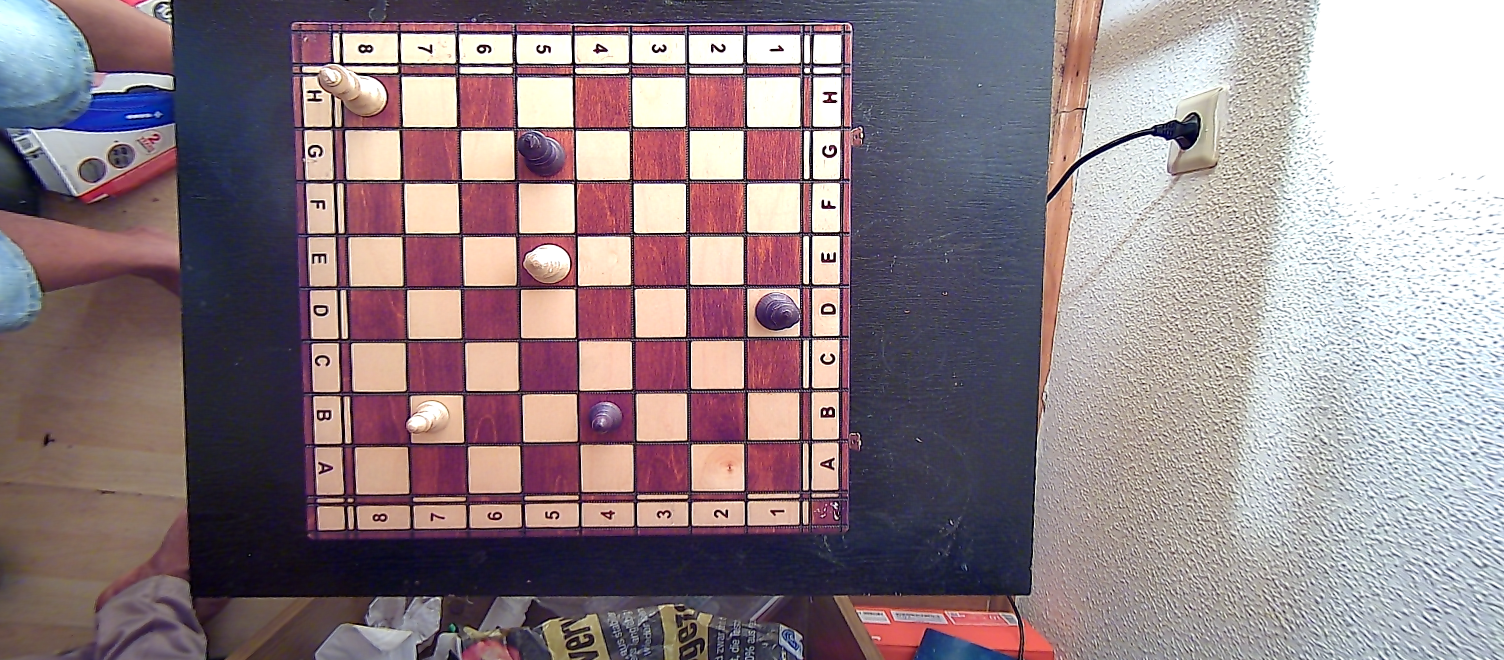black-bishop: (585, 399, 624, 439)
black-king: (517, 126, 566, 178)
black-queen: (753, 289, 801, 334)
white-bishop: (403, 396, 451, 436)
white-king: (316, 58, 389, 119)
white-queen: (522, 241, 574, 285)
